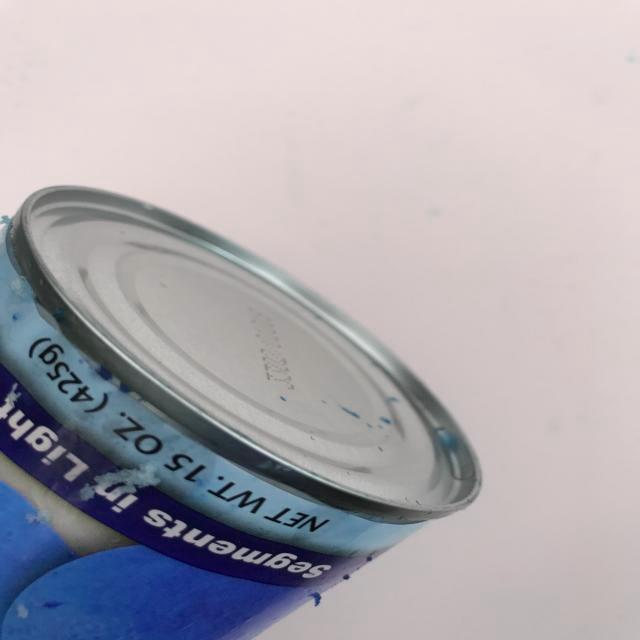metal: (7, 171, 530, 640)
